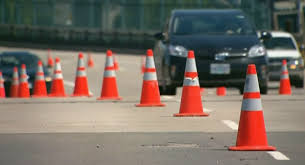car: (153, 7, 269, 94), (256, 29, 303, 88), (1, 51, 54, 93)
cone: (227, 64, 277, 153), (174, 51, 208, 118), (135, 48, 165, 107), (95, 49, 124, 102), (71, 52, 90, 97), (48, 59, 65, 97), (32, 62, 47, 97), (278, 60, 292, 95), (18, 64, 30, 99), (10, 67, 19, 99), (1, 70, 6, 99)
